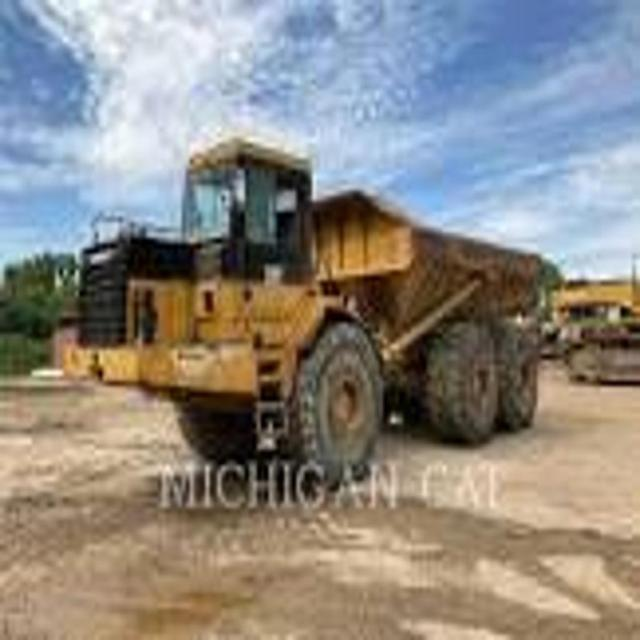dump_truck: (69, 150, 549, 472)
